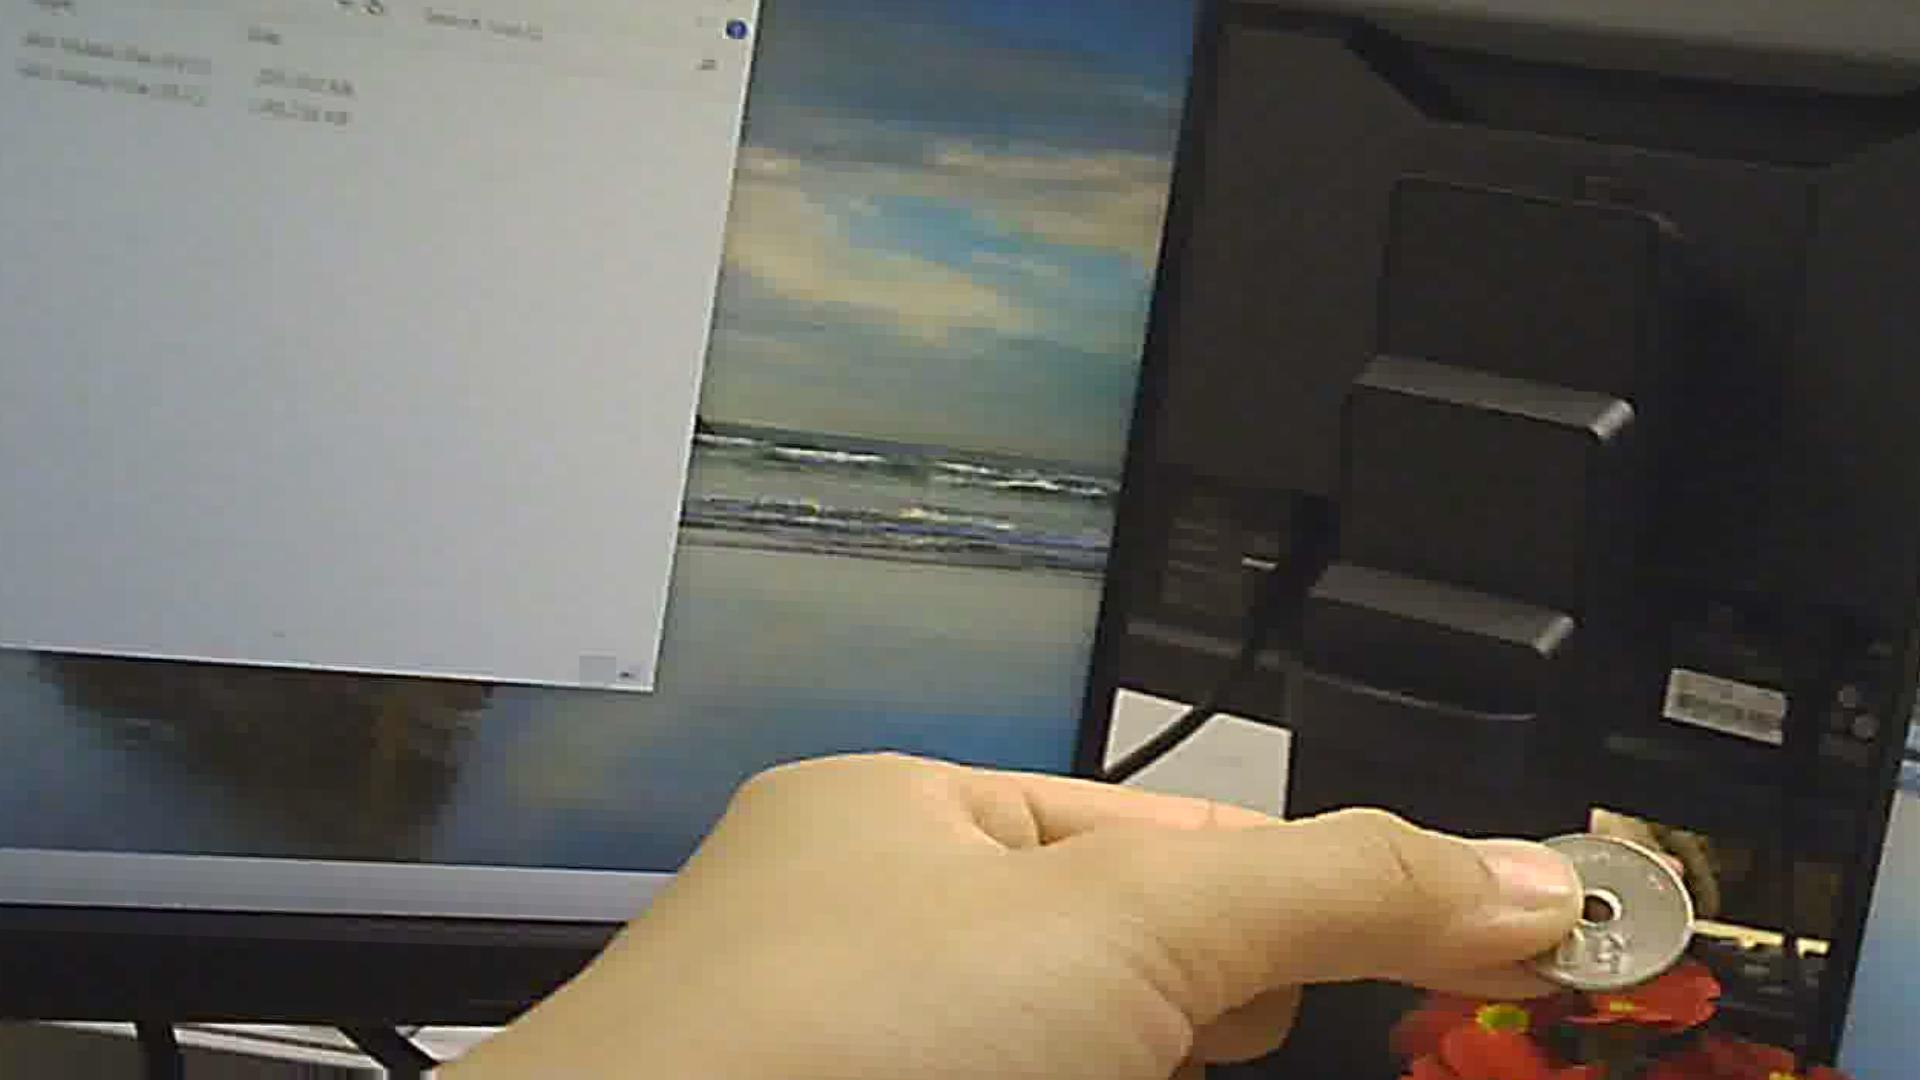50 Yen: (1513, 825, 1704, 1001)
